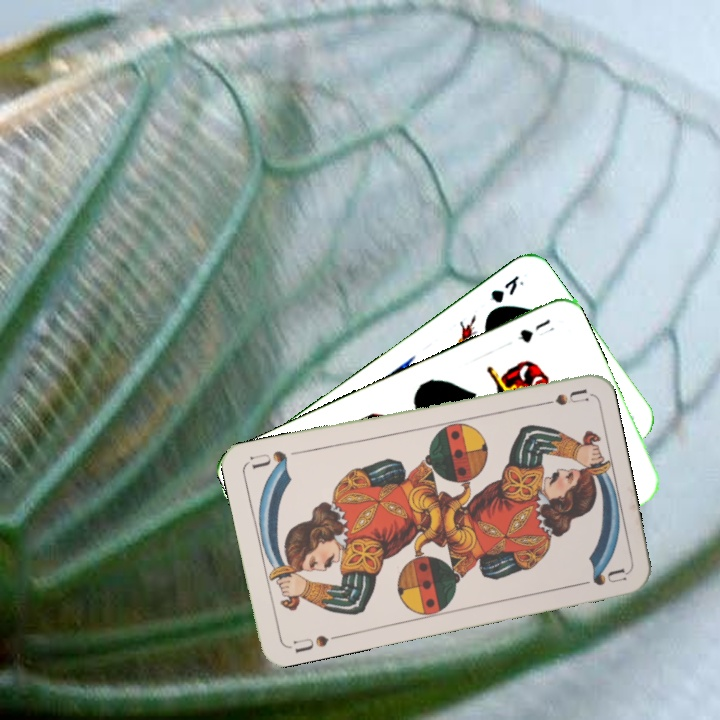GK: (486, 271, 527, 306)
GU: (513, 314, 553, 346)
SU: (530, 385, 590, 410), (289, 631, 331, 656)
